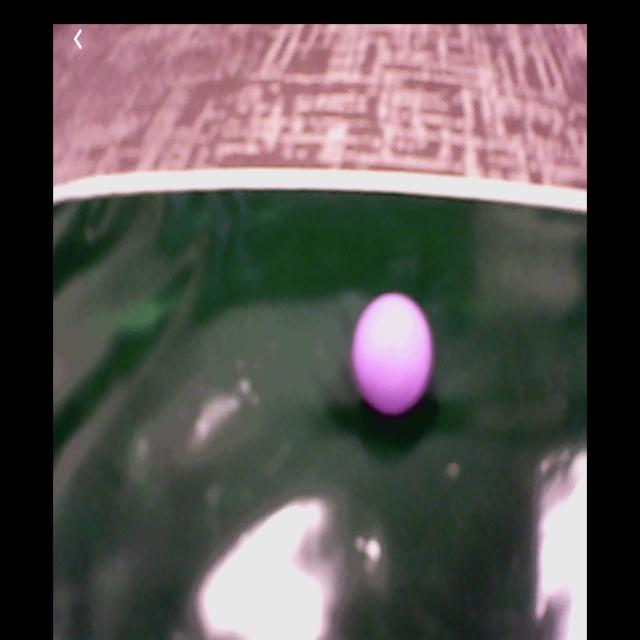ball: (352, 292, 432, 419)
